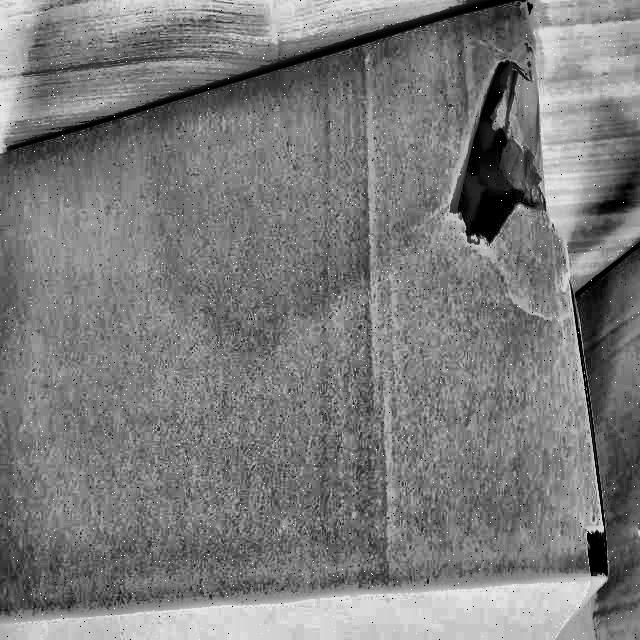box: (1, 1, 616, 640)
hole: (446, 61, 554, 265)
